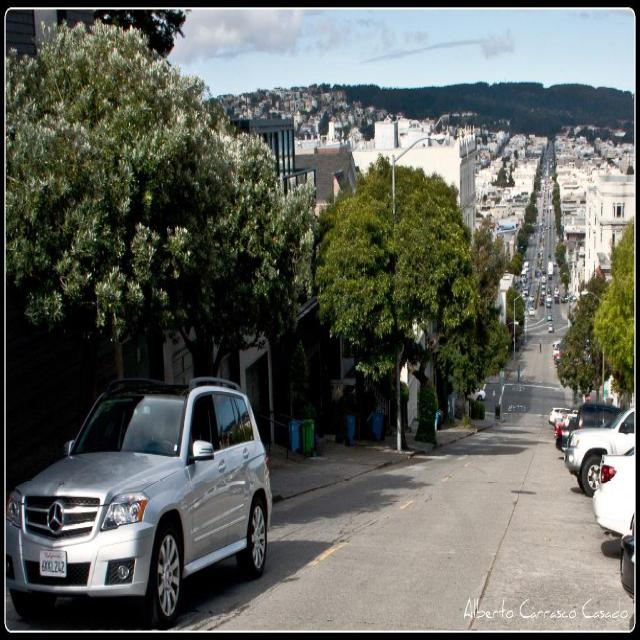car: (5, 377, 273, 627), (545, 323, 553, 331), (546, 312, 553, 319)
